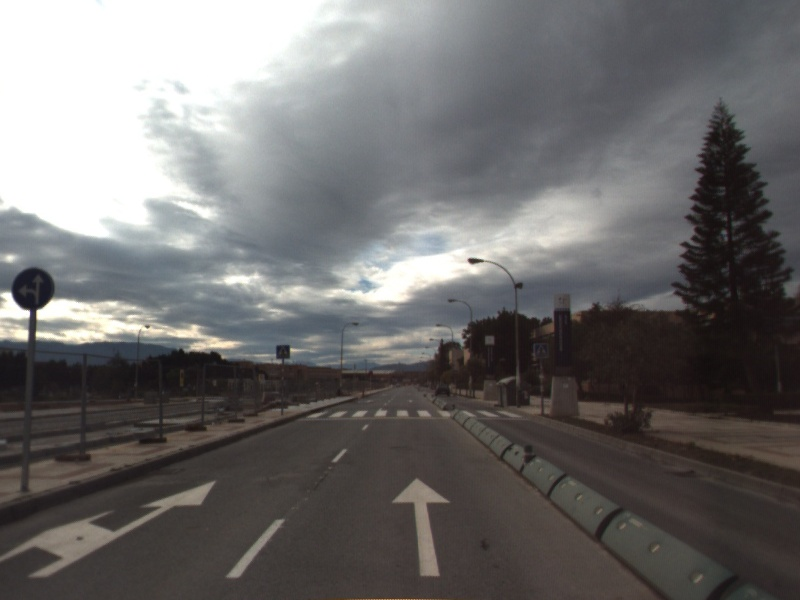STRAIGHT: (389, 475, 453, 578)
STRAIGHT_LEFT: (1, 478, 219, 580)
